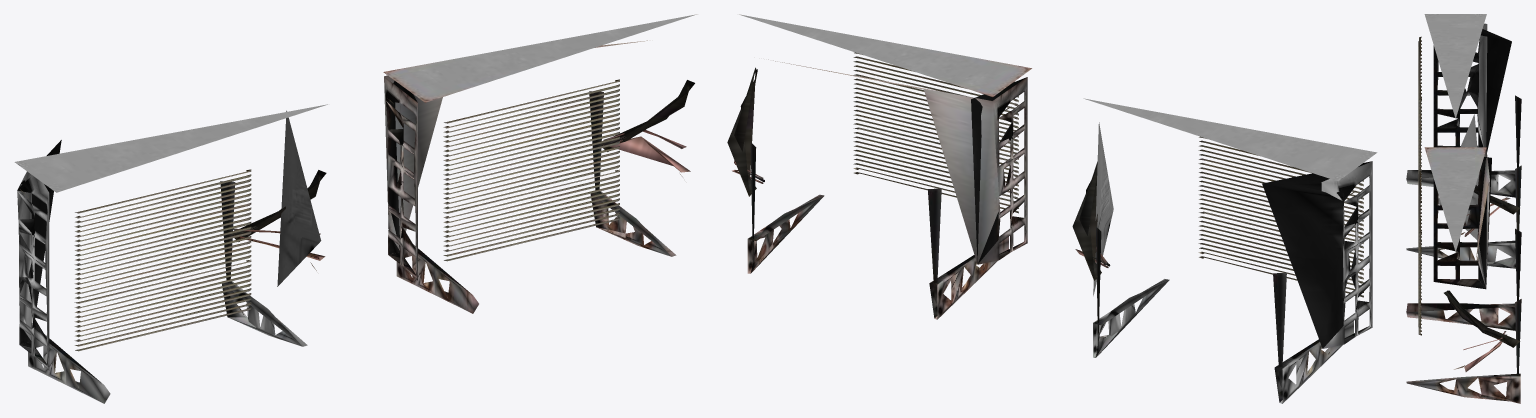
The model's file is exterior_aircon_unit.glb.
The picture shows the model from 3 angles, left to right: view 1: azimuth 30°, elevation 25°; view 2: azimuth 150°, elevation 25°; view 3: azimuth 270°, elevation 25°; orthographic projection. The views are drawn at different scales.
Parts seen in each view (by area): view 1: exterior_aircon_unit; view 2: exterior_aircon_unit; view 3: exterior_aircon_unit.
Boxes of the visible parts, <box> form: exterior_aircon_unit: <box>14,14,697,403</box>; exterior_aircon_unit: <box>727,14,1377,403</box>; exterior_aircon_unit: <box>1406,14,1521,403</box>.
Size of the model in its own units: 1.81 by 0.6 by 0.3659.
2 materials, 2 textured.
